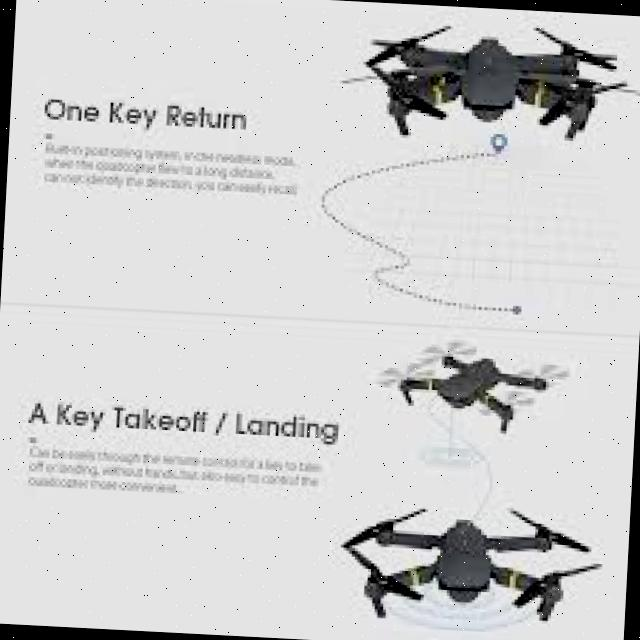drone: (323, 6, 640, 166), (337, 490, 603, 640), (372, 326, 571, 454)
